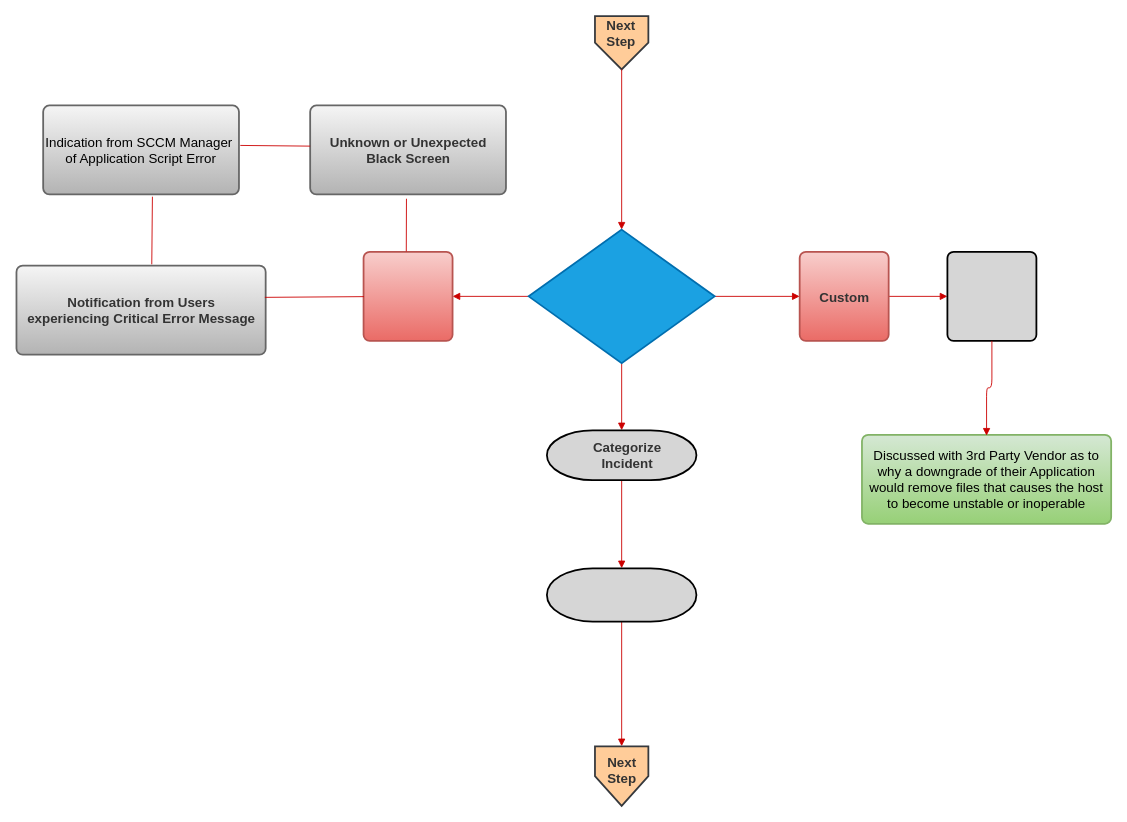
This 1127x822 diagram has some shape labels left out. The centre of each missing label's shape, as x and y in pixels:
Conduct Scans: pixel 621 594
Custom Indicators: pixel 991 296
Define Indicators: pixel 621 296
Standard: pixel 407 296
